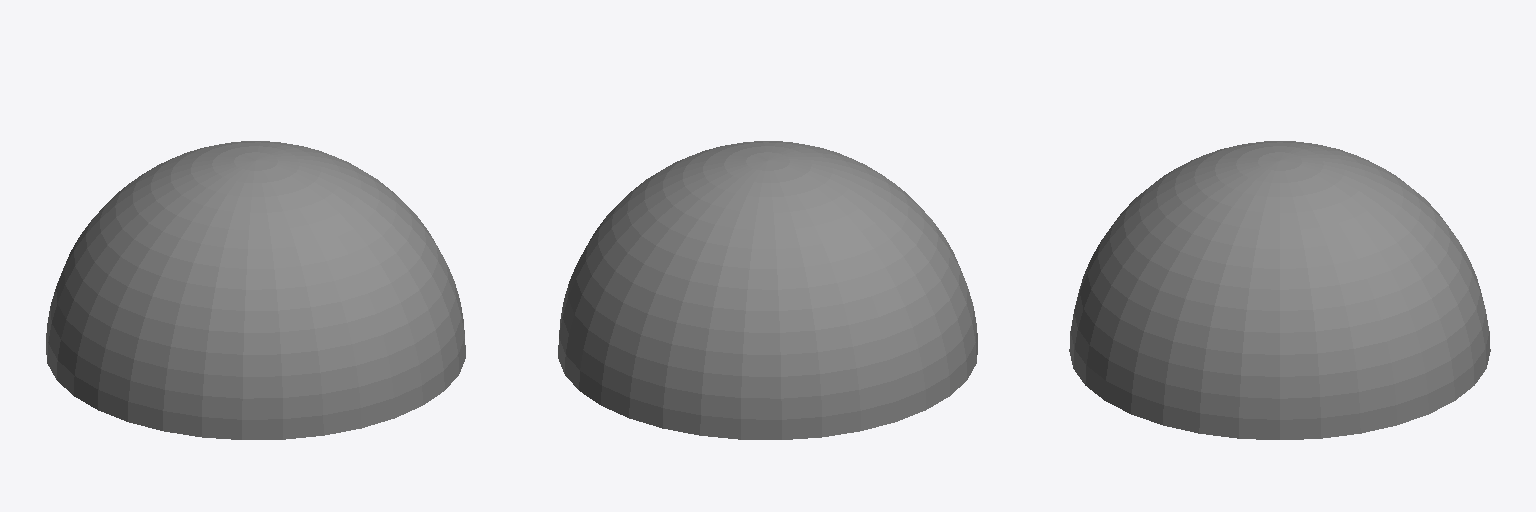
Rendered from sky.obj.
The picture shows the model from 3 angles: view 1: azimuth 30°, elevation 25°; view 2: azimuth 150°, elevation 25°; view 3: azimuth 270°, elevation 25°; orthographic projection.
Parts seen in each view (by area): view 1: Sphere001; view 2: Sphere001; view 3: Sphere001.
Boxes of the visible parts, box(x1,y1,x2,y2) form: Sphere001: box(46, 141, 465, 439); Sphere001: box(558, 141, 977, 439); Sphere001: box(1069, 141, 1490, 439).
Bounding box in the file's own units: 5942 × 2971 × 5942.